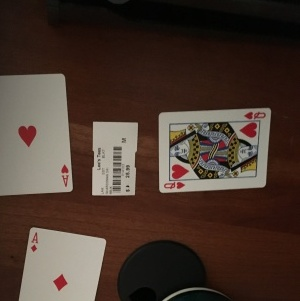card: (157, 106, 270, 195)
